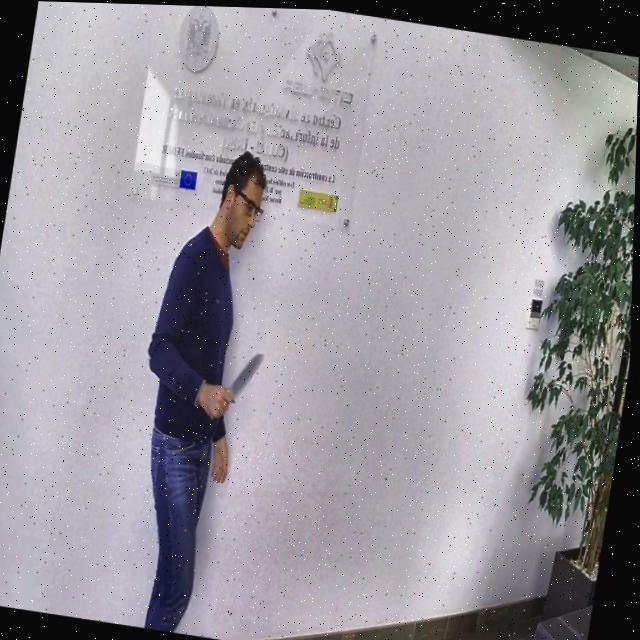knife: (226, 346, 266, 404)
